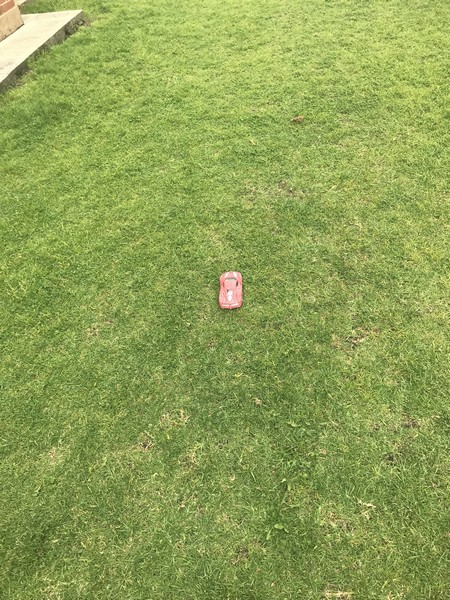RC: (217, 269, 243, 310)
